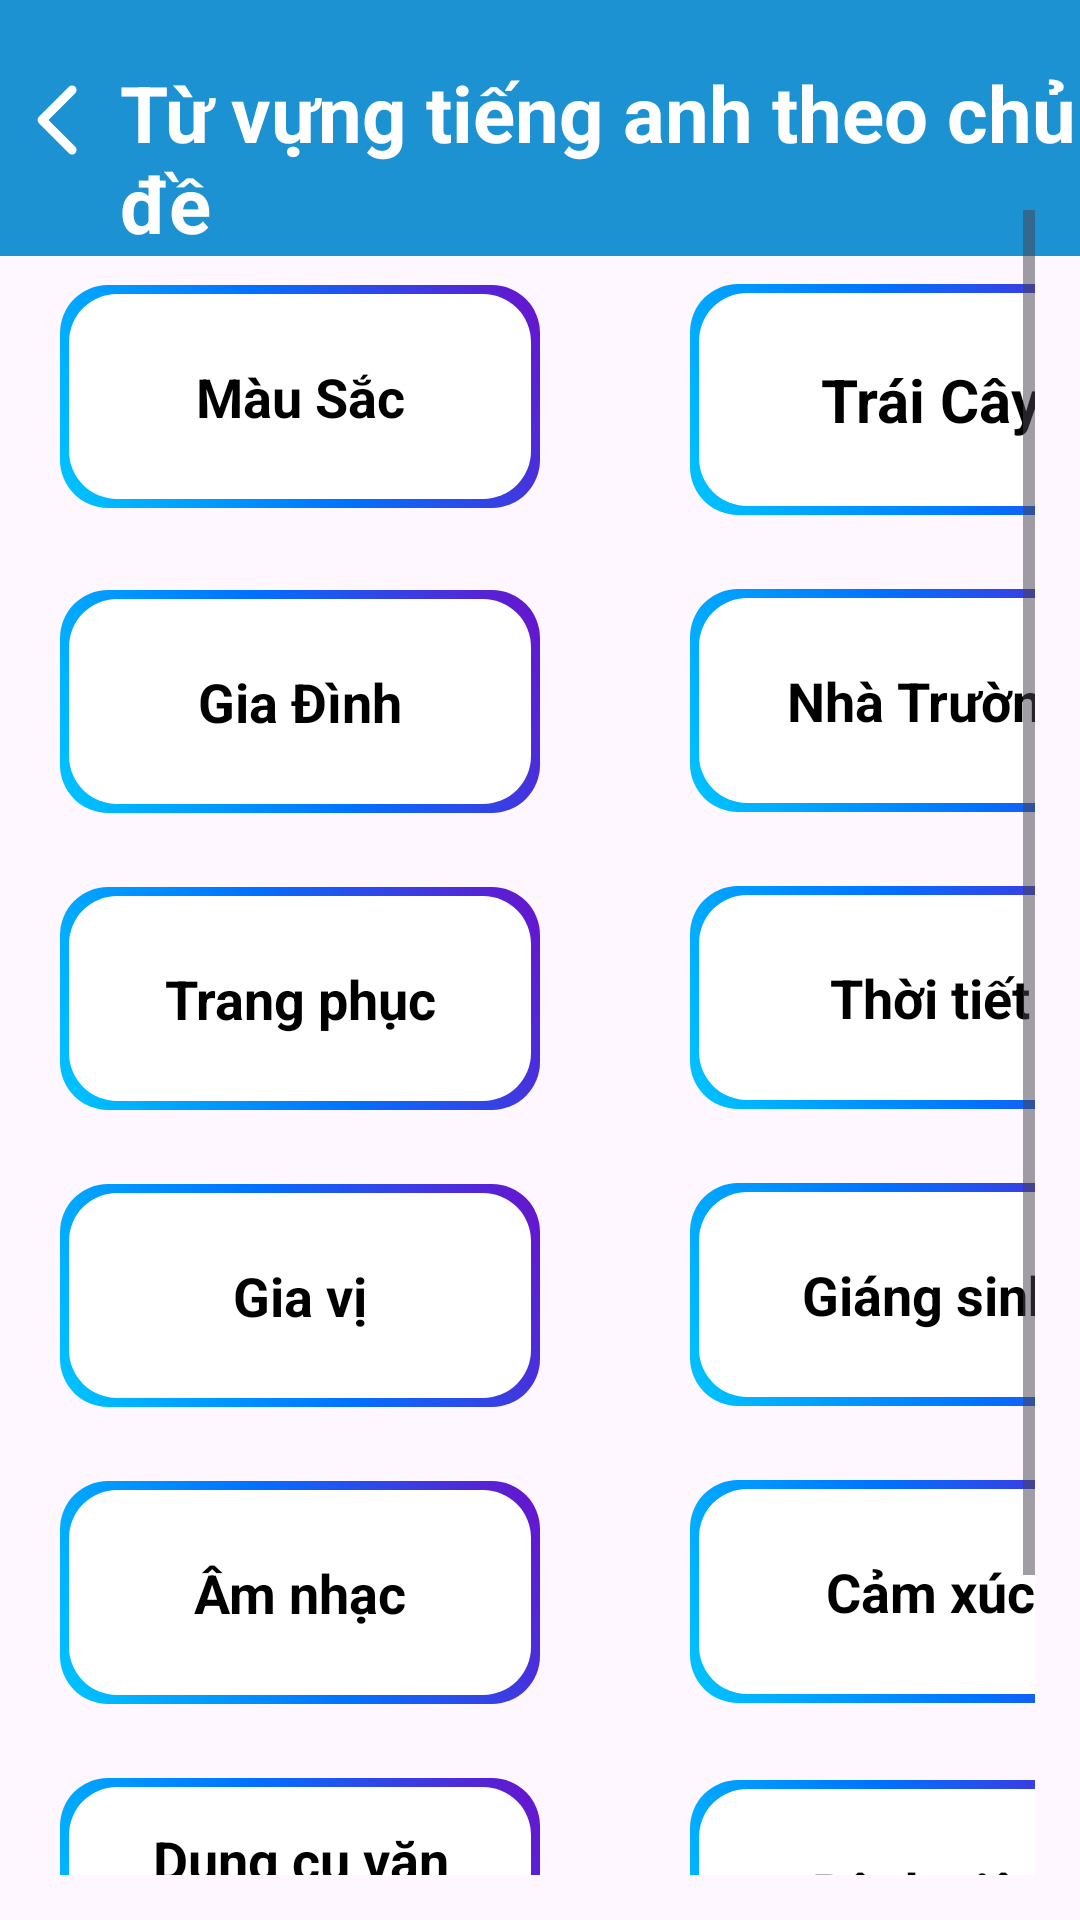

Point at icon controls on the screen. Image size 1080w x 1920h, points as [x,y].
angle left full: [57,120]
